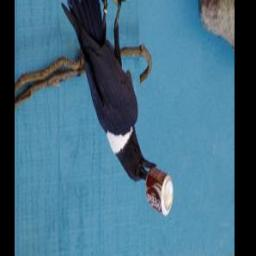Crow: (61, 0, 158, 185)
